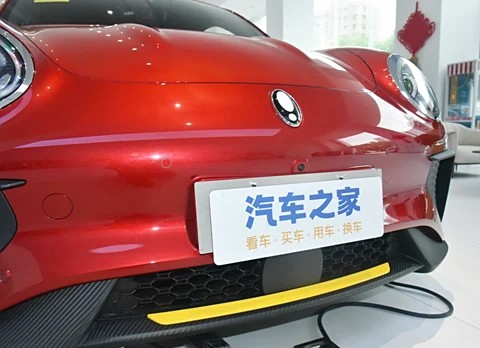ORA: (272, 89, 302, 126)
